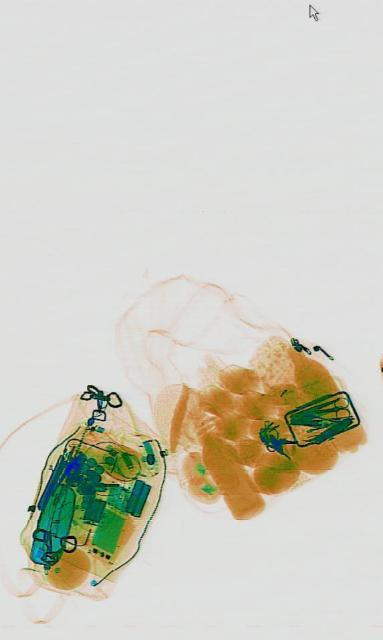Scissors: (312, 396, 350, 422)
